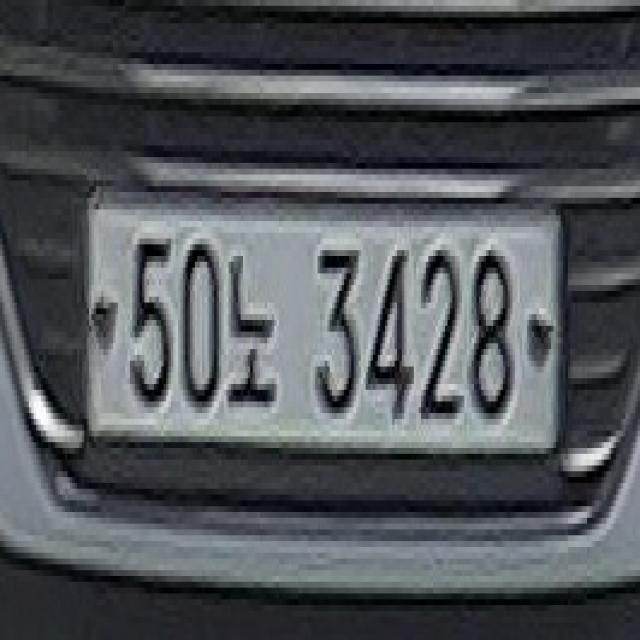0: (179, 226, 224, 417)
2: (418, 238, 466, 444)
3: (312, 236, 363, 429)
4: (368, 251, 412, 427)
5: (126, 230, 176, 418)
8: (468, 244, 522, 434)
license_plate: (73, 195, 565, 454)
no: (224, 233, 284, 427)
